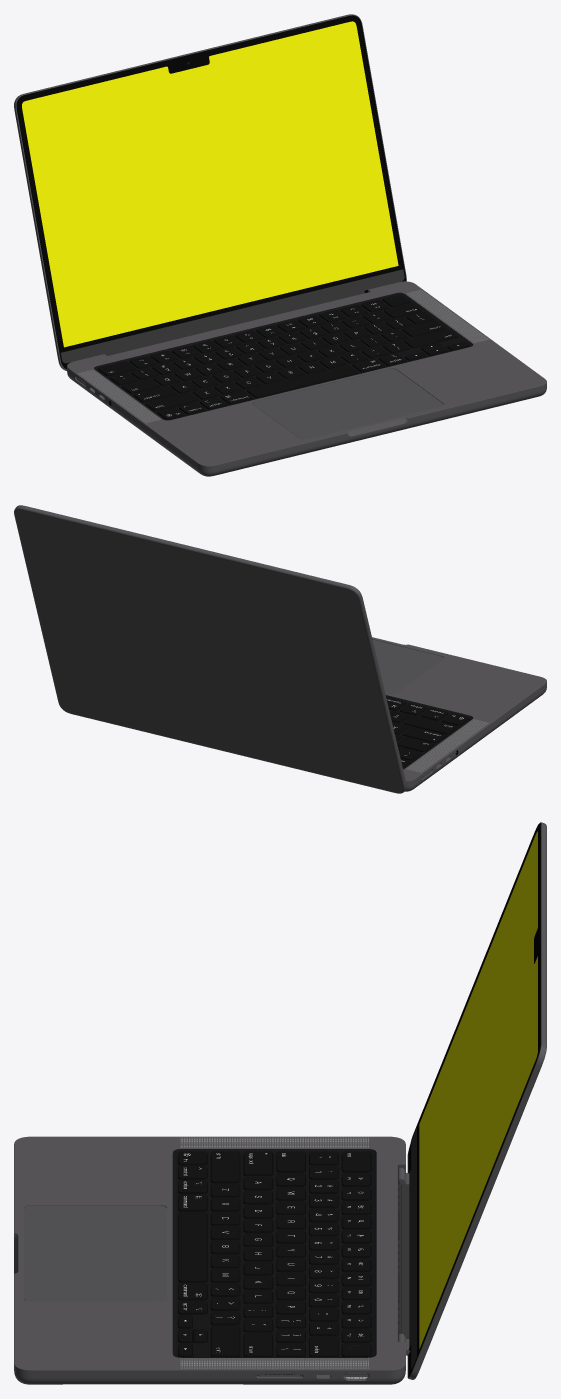
Rendered from laptop.glb.
The picture shows the model from 3 angles, top to bottom: view 1: azimuth 30°, elevation 25°; view 2: azimuth 150°, elevation 25°; view 3: azimuth 270°, elevation 25°; orthographic projection. The views are drawn at different scales.
Visible parts, largest first — view 1: screen, part72, part63, part76, part104, part68, part107, part14, part95, part93, part74; view 2: part95, part63, part72, part76, part14, part99, part68; view 3: part72, part63, screen, part76, part68, part14, part95, part40, part104, part93, part107, part97 (+3 smaller).
Part boxes in pixels (<box>): screen: <box>22,21,398,347</box>; part72: <box>98,294,468,419</box>; part63: <box>67,281,546,466</box>; part76: <box>253,368,443,439</box>; part104: <box>18,17,402,352</box>; part68: <box>94,292,473,420</box>; part107: <box>61,269,404,363</box>; part14: <box>67,367,546,476</box>; part95: <box>14,14,406,370</box>; part93: <box>16,15,405,369</box>; part74: <box>108,303,458,416</box>; part95: <box>14,505,406,793</box>; part63: <box>372,637,546,781</box>; part72: <box>386,697,468,767</box>; part76: <box>372,639,443,694</box>; part14: <box>405,682,546,791</box>; part99: <box>187,628,231,671</box>; part68: <box>385,695,473,769</box>; part72: <box>178,1151,370,1356</box>; part63: <box>14,1136,405,1370</box>; screen: <box>419,831,537,1348</box>; part76: <box>24,1205,166,1301</box>; part68: <box>172,1149,376,1357</box>; part14: <box>14,1363,405,1384</box>; part95: <box>399,822,546,1379</box>; part40: <box>178,1156,371,1356</box>; part104: <box>417,825,539,1355</box>; part93: <box>408,823,540,1377</box>; part107: <box>409,1128,416,1368</box>; part97: <box>400,1184,409,1338</box>.
Size of the model in its own units: 3.8 by 2.58 by 3.66.
Materials: 24 (3 with a texture image).
